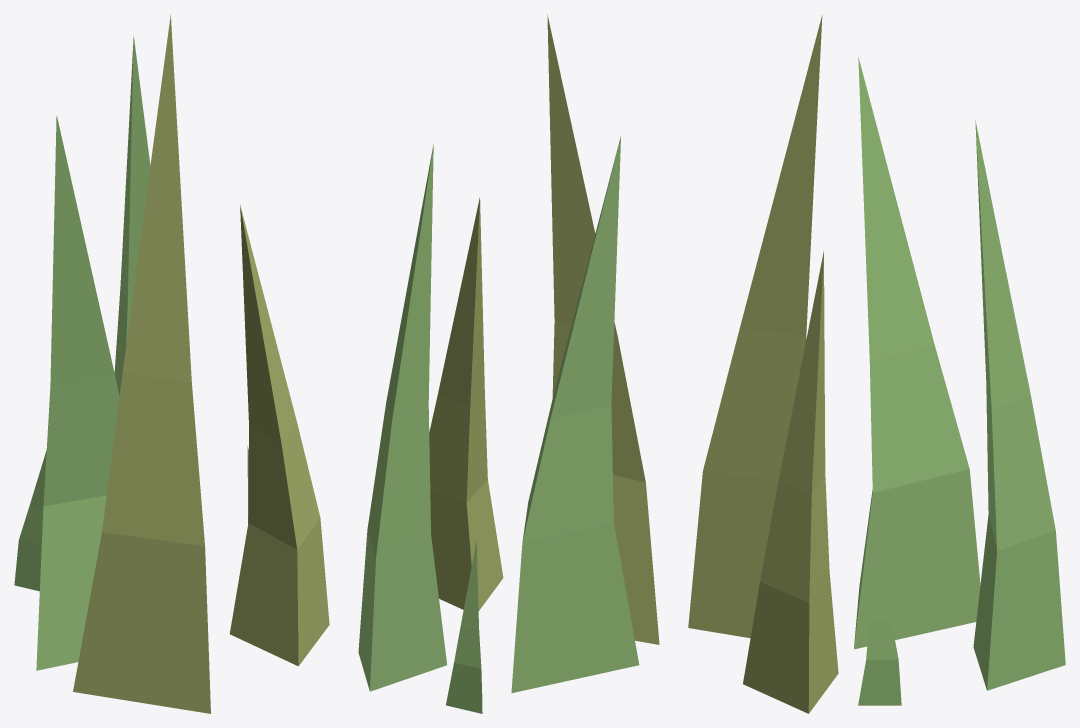
The model's file is Grass3.fbx.
3 renders of one model, left to right at view 1: azimuth 30°, elevation 25°; view 2: azimuth 150°, elevation 25°; view 3: azimuth 270°, elevation 25°, orthographic. The views are drawn at different scales.
Parts seen in each view (by area): view 1: Grass3; view 2: Grass3; view 3: Grass3.
Part boxes in pixels (x1=…): Grass3: x1=14, y1=14, x2=329, y2=713; Grass3: x1=358, y1=14, x2=659, y2=713; Grass3: x1=688, y1=15, x2=1065, y2=713.
Bounding box in the file's own units: 33.71 × 77.64 × 42.23.
